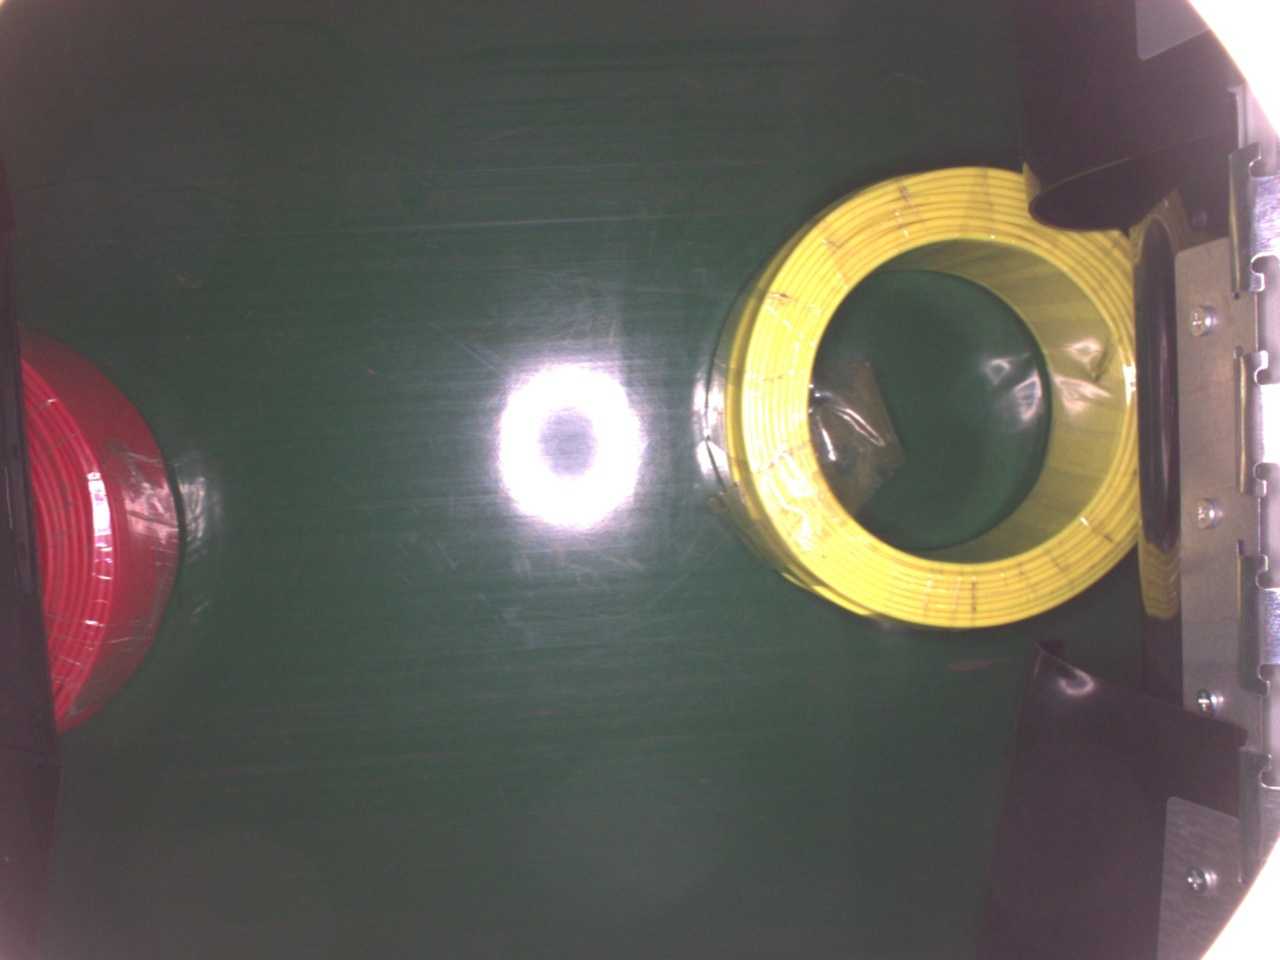red: (12, 315, 186, 740)
yellow: (701, 162, 1140, 629)
